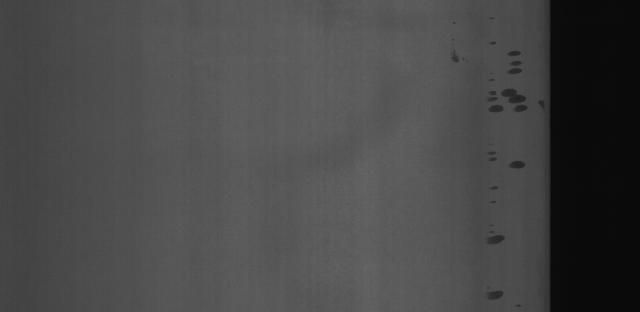oil_spot: (484, 82, 542, 120), (484, 148, 506, 208), (492, 41, 524, 77), (483, 222, 510, 248), (484, 286, 511, 310), (446, 44, 474, 65), (506, 158, 528, 176)
